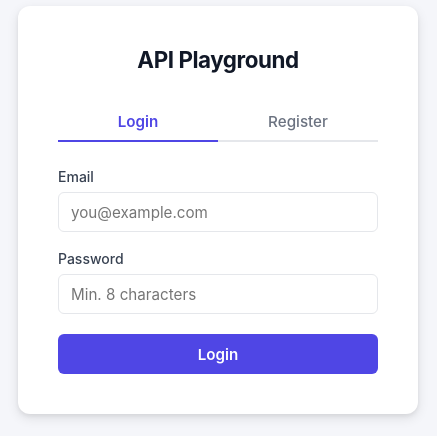
Test: AuthPage › switches to register tab when Register button is clicked
Click the button "Register". click: click(298, 122)
box: [218,102,378,142]
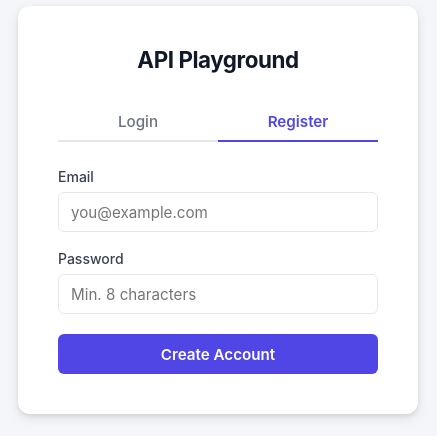
Check: the button "Create Account" is shown, box [58,334,378,374]
